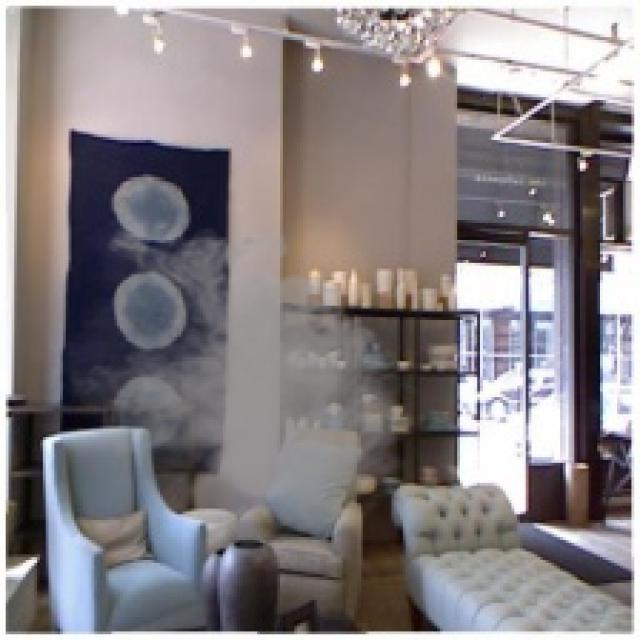smoke: (46, 208, 426, 568)
